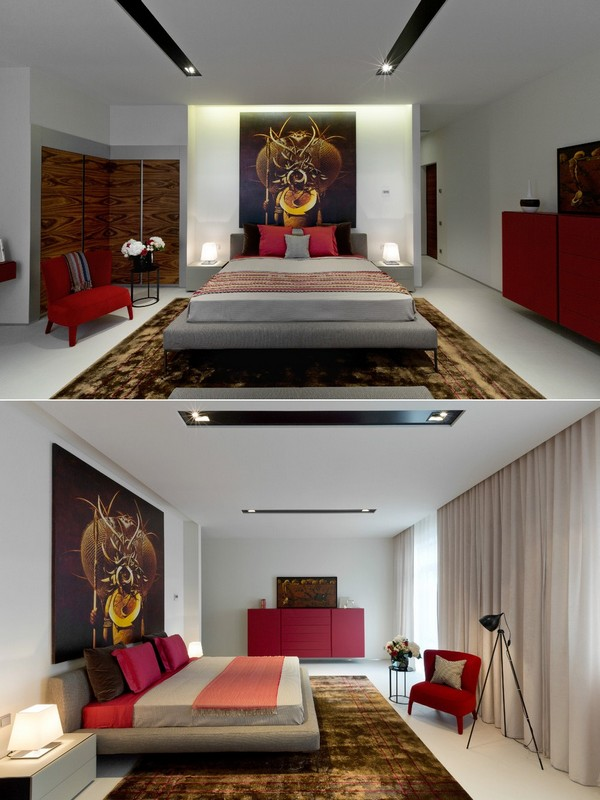bed: (171, 227, 439, 371), (65, 632, 321, 771)
lamp: (10, 701, 67, 763), (378, 240, 412, 274), (196, 238, 221, 273)
sofa: (41, 247, 138, 336), (415, 646, 482, 736)
stool: (5, 738, 100, 795), (127, 249, 167, 314), (384, 657, 416, 712)
